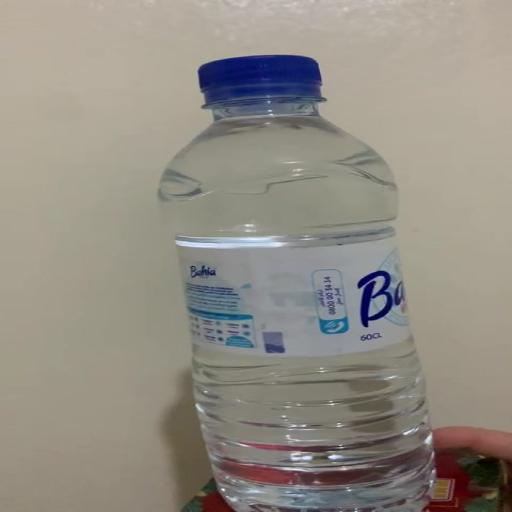bouteille conformite: (155, 54, 434, 511)
